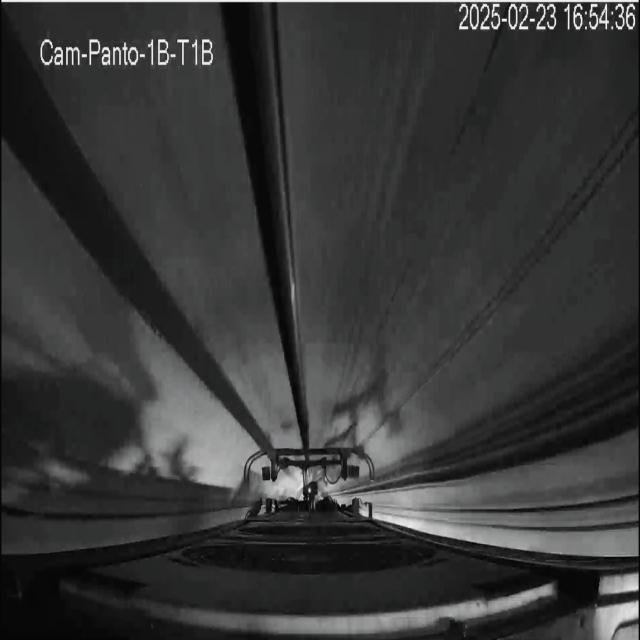Camera Stamp: (36, 29, 220, 71)
Date Stamp: (455, 3, 636, 33)
No - Spark: (245, 445, 376, 522)
